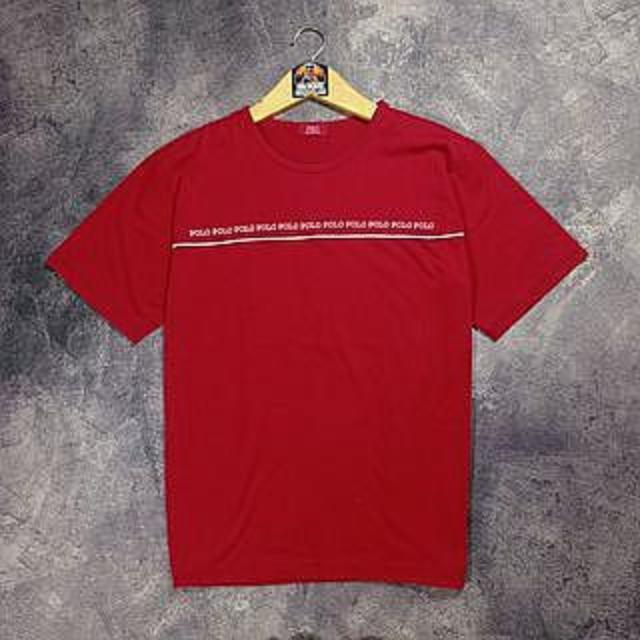T_SHIRT: (34, 94, 592, 597)
